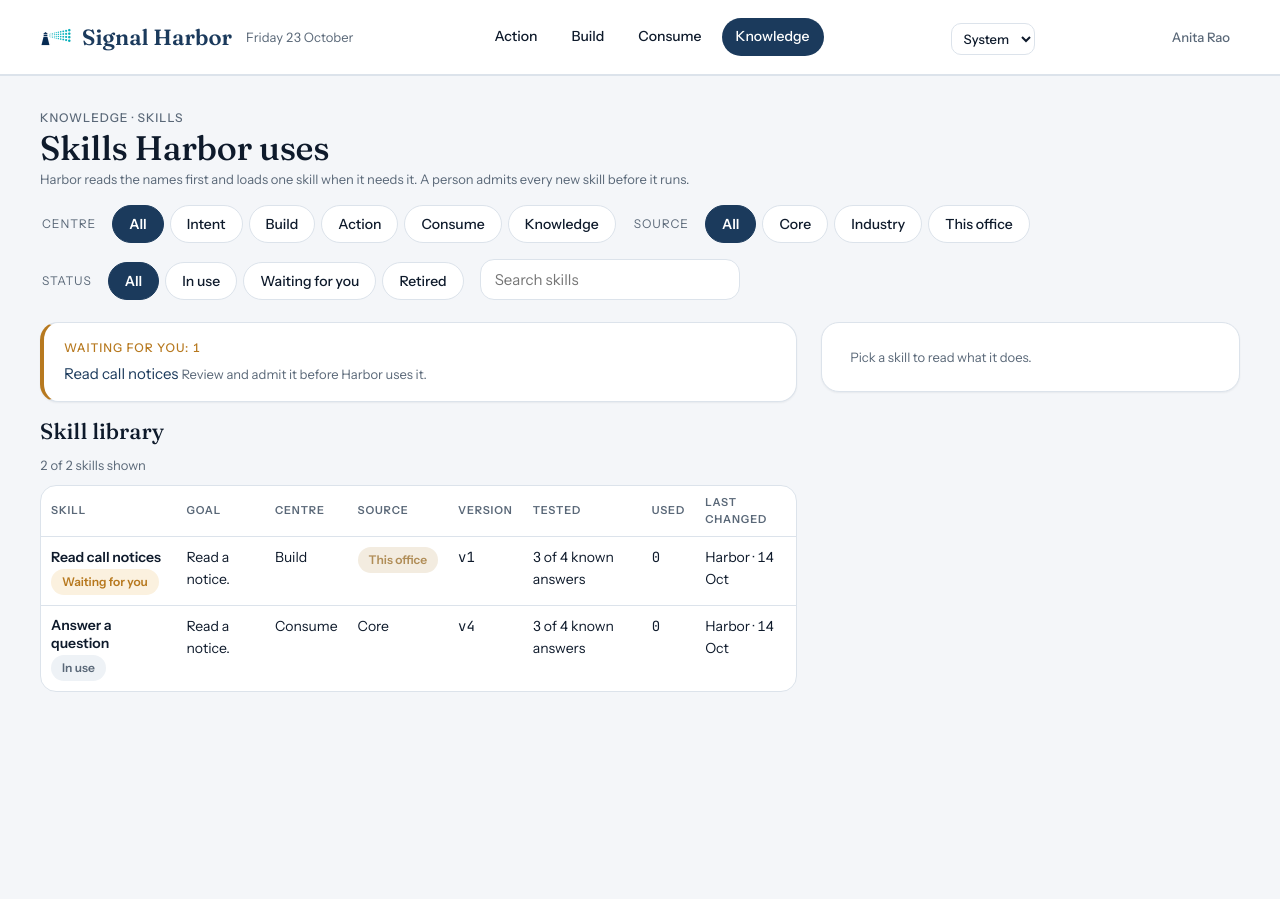
it: skills library: filter by source, search, detail with cache
The image size is (1280, 899).
Expected: the text "2 of 2 skills shown" is shown, [40,457,146,473]
Click the button "Core": x=795, y=224 [762,205,828,243]
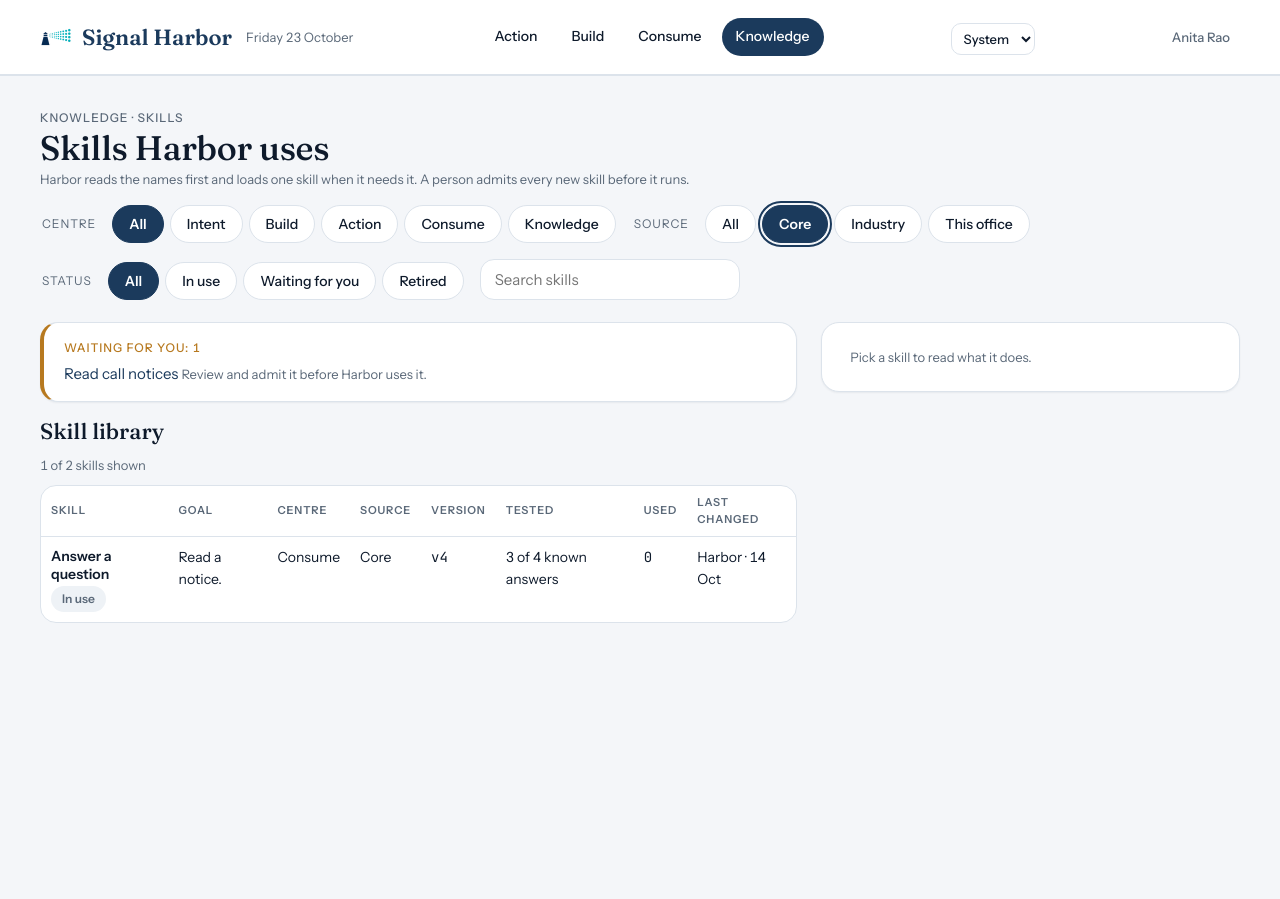
Now the text "1 of 2 skills shown" is shown, box [40,457,146,473]
Click the button "Answer a question": x=105, y=565 [51,547,158,583]
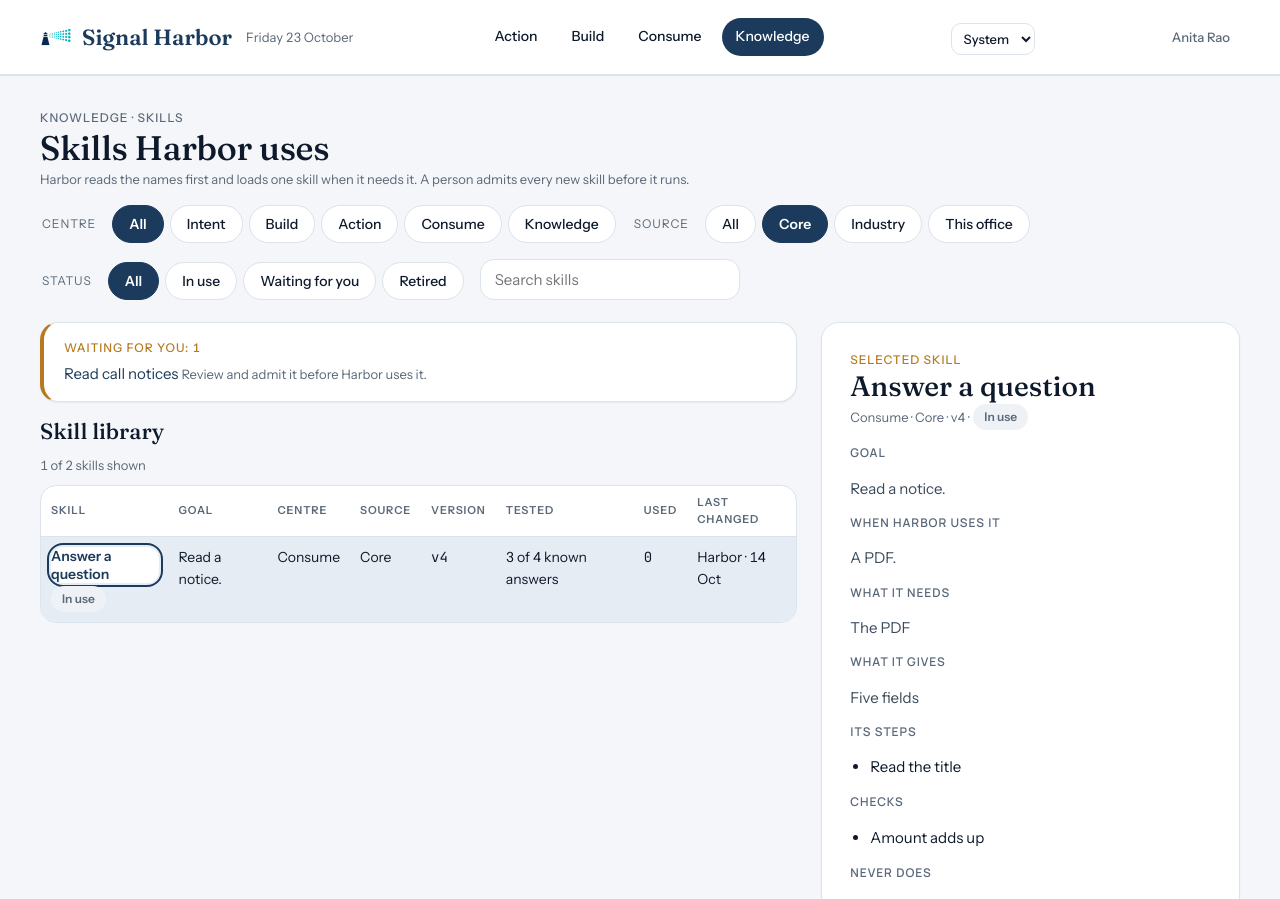
In the search field labelled "Search skills": x=610, y=279 [480,259,740,300], type "zzz"
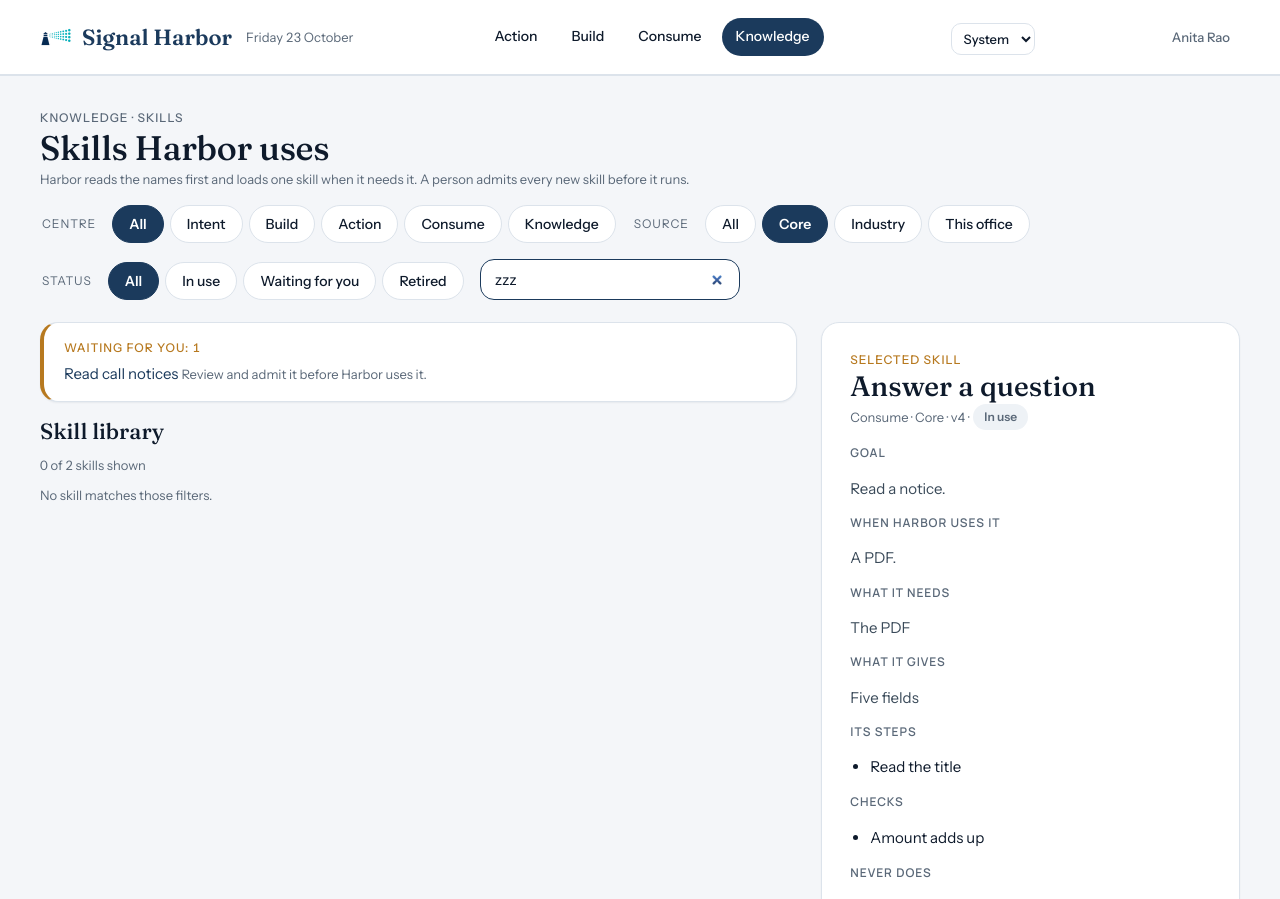
Now the text "No skill matches those filters." is shown, box [40,487,212,503]
